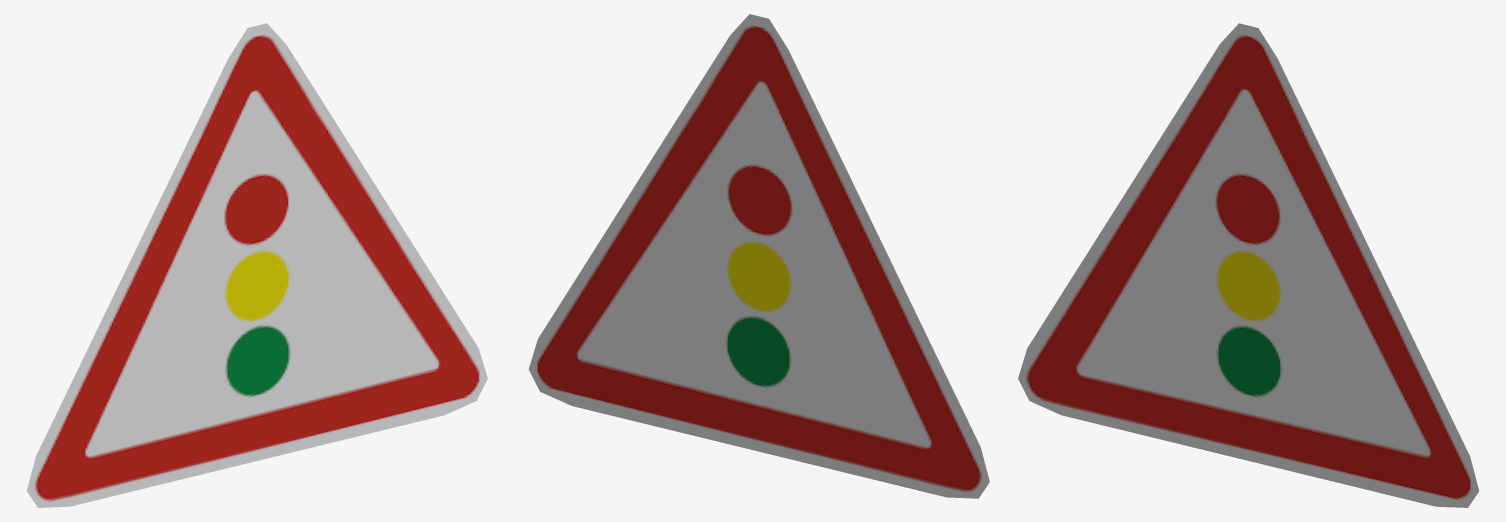
The model's file is SM_Road_Sign_09.fbx.
The picture shows the model from 3 angles, left to right: view 1: azimuth 30°, elevation 25°; view 2: azimuth 150°, elevation 25°; view 3: azimuth 330°, elevation 25°; orthographic projection.
Visible parts, largest first — view 1: SM_Road_Sign_09; view 2: SM_Road_Sign_09; view 3: SM_Road_Sign_09.
Boxes of the visible parts, x1=… form: SM_Road_Sign_09: x1=27, y1=23, x2=487, y2=507; SM_Road_Sign_09: x1=528, y1=14, x2=989, y2=498; SM_Road_Sign_09: x1=1018, y1=23, x2=1478, y2=507.
Bounding box in the file's own units: 48.62 × 43.85 × 2.3.
